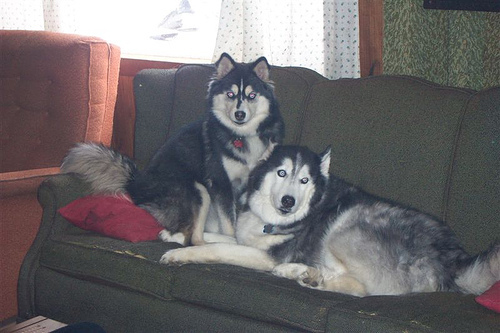dog: (60, 51, 287, 244)
